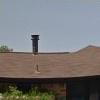Chimney: (25, 25, 44, 54)
